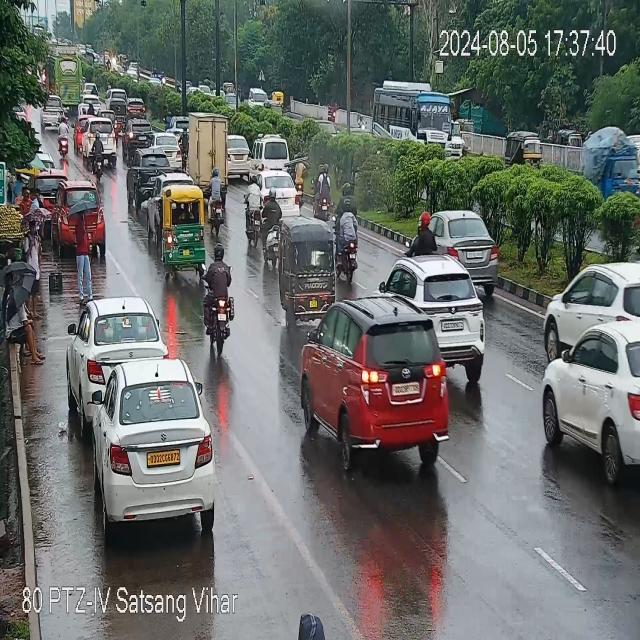2-wheelers: (201, 246, 237, 352), (335, 203, 367, 277), (251, 188, 283, 248), (316, 161, 334, 214), (412, 212, 432, 250), (90, 133, 107, 176), (57, 117, 71, 159), (86, 101, 96, 118)
auto: (266, 219, 341, 317), (164, 178, 212, 284), (589, 138, 640, 198), (505, 133, 550, 170)
bus: (372, 78, 454, 154), (54, 51, 86, 107)
car: (306, 298, 457, 474), (79, 360, 218, 528), (541, 322, 636, 486), (374, 255, 490, 370), (72, 299, 166, 393), (542, 261, 638, 328), (416, 208, 504, 277), (59, 182, 106, 254), (74, 118, 118, 161), (252, 170, 302, 207), (254, 136, 294, 172), (227, 135, 258, 177), (146, 176, 162, 246), (129, 149, 177, 170), (42, 98, 72, 128), (153, 131, 184, 160), (126, 120, 155, 141), (122, 99, 150, 118), (248, 84, 266, 110), (107, 90, 130, 106), (170, 113, 188, 131), (84, 82, 100, 100), (110, 110, 120, 136)
pedestrian: (4, 302, 48, 361), (24, 211, 44, 312), (76, 211, 94, 295), (288, 612, 333, 640)
truck: (181, 111, 235, 187)
